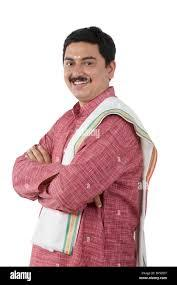Human: (18, 19, 154, 284)
